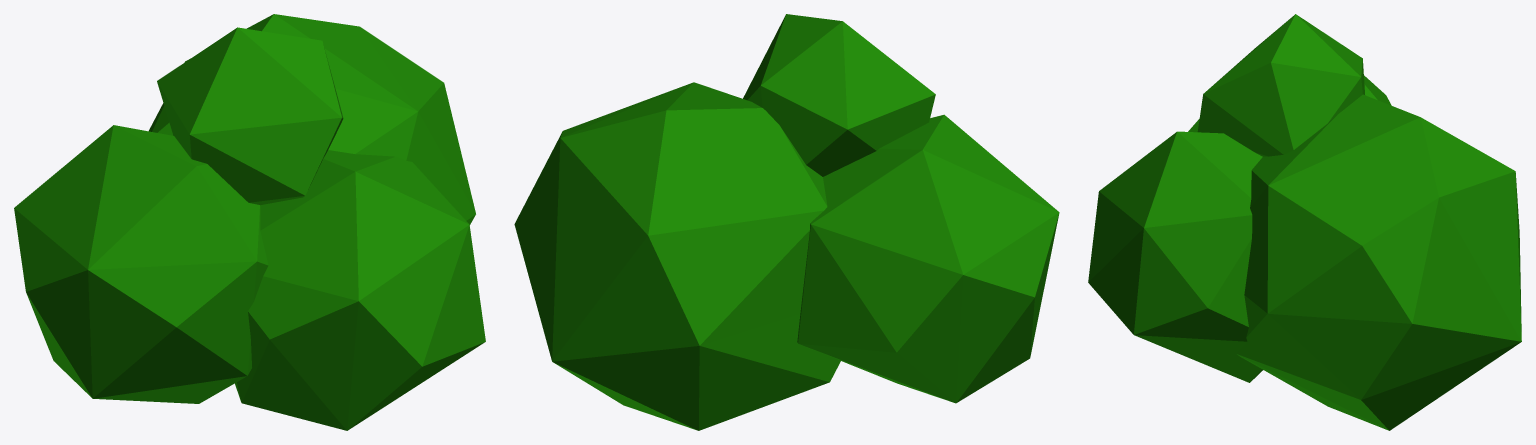
The model's file is bush_2.fbx.
The picture shows the model from 3 angles, left to right: view 1: azimuth 30°, elevation 25°; view 2: azimuth 150°, elevation 25°; view 3: azimuth 270°, elevation 25°; orthographic projection. The views are drawn at different scales.
Visible parts, largest first — view 1: bush_2; view 2: bush_2; view 3: bush_2.
Boxes of the visible parts, bbox=[...] form: bush_2: bbox=[14, 14, 485, 430]; bush_2: bbox=[514, 14, 1059, 430]; bush_2: bbox=[1088, 14, 1521, 430].
Size of the model in its own units: 156 by 126 by 142.
